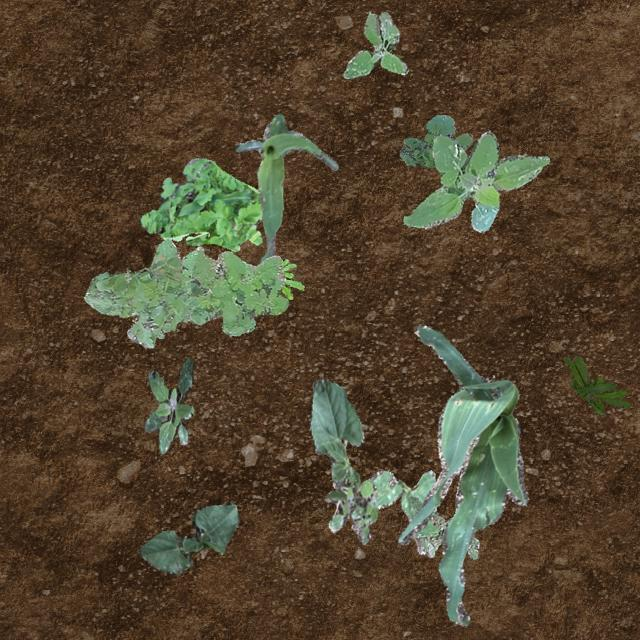crop: (397, 323, 528, 624), (235, 114, 338, 262), (138, 501, 238, 574), (308, 376, 362, 488), (366, 469, 434, 554)
weed: (82, 238, 288, 346), (402, 130, 548, 232), (136, 158, 262, 250), (142, 357, 192, 452), (342, 11, 408, 78), (409, 496, 478, 558), (563, 354, 629, 414), (323, 474, 378, 544), (398, 114, 472, 166), (278, 256, 304, 298)
